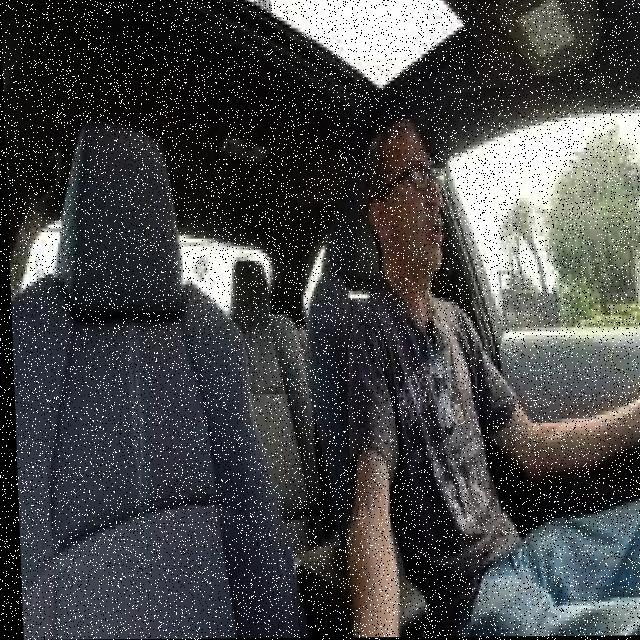noSeatbelt: (362, 256, 507, 580)
